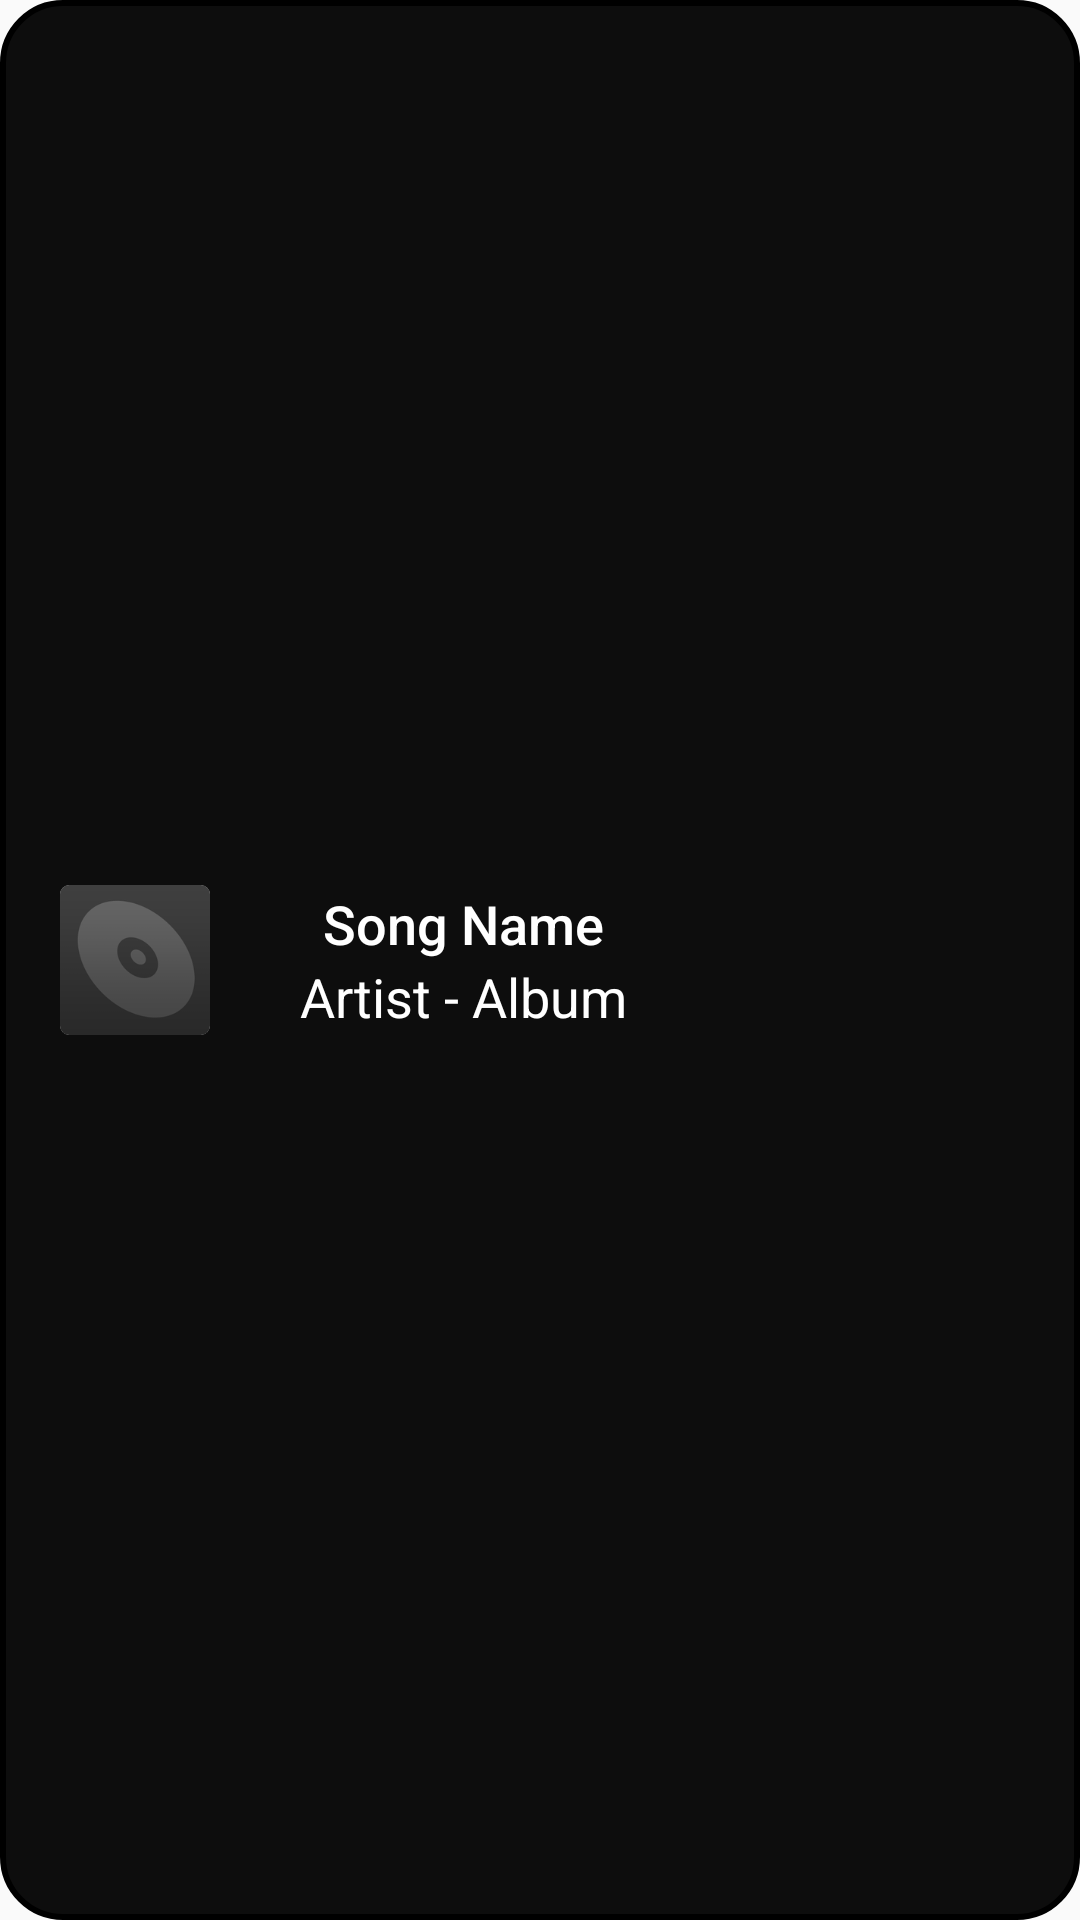

Point at icon controls on the screen. Image size 1080x1920, points as point (x, y).
noalbumart: point (135, 960)
